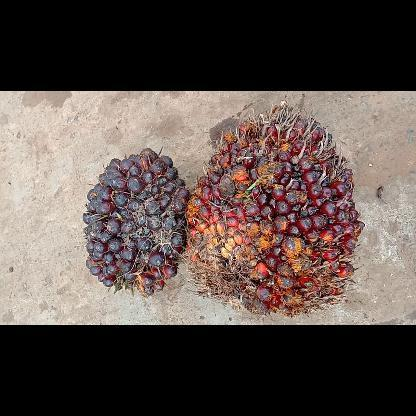TBS masak: (182, 102, 362, 316)
TBS mentah: (82, 148, 190, 296)
